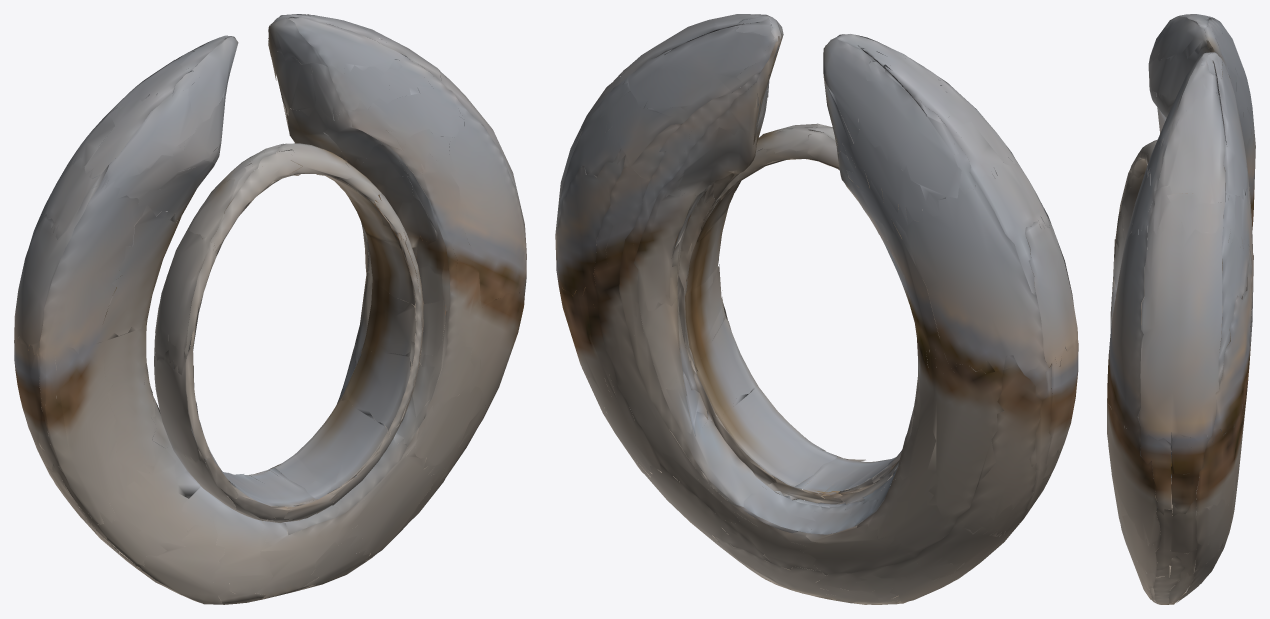
The model's file is sculpt_mirror.glb.
The picture shows the model from 3 angles, left to right: view 1: azimuth 30°, elevation 25°; view 2: azimuth 150°, elevation 25°; view 3: azimuth 270°, elevation 25°; orthographic projection. The views are drawn at different scales.
Visible parts, largest first — view 1: LO.001; view 2: LO.001; view 3: LO.001.
Part boxes in pixels (x1,y1,x2,y2): LO.001: (14,14,526,604); LO.001: (555,14,1078,604); LO.001: (1107,14,1255,604).
Bounding box in the file's own units: 4.64 × 5 × 1.26.
1 material, 1 textured.
